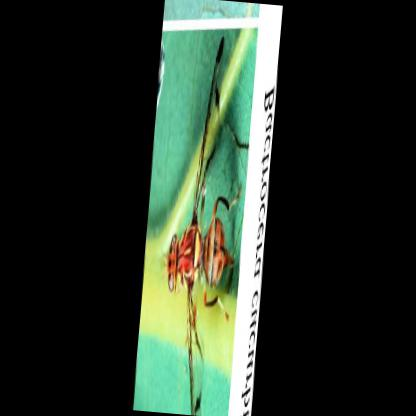fruit fly: (168, 33, 240, 414)
